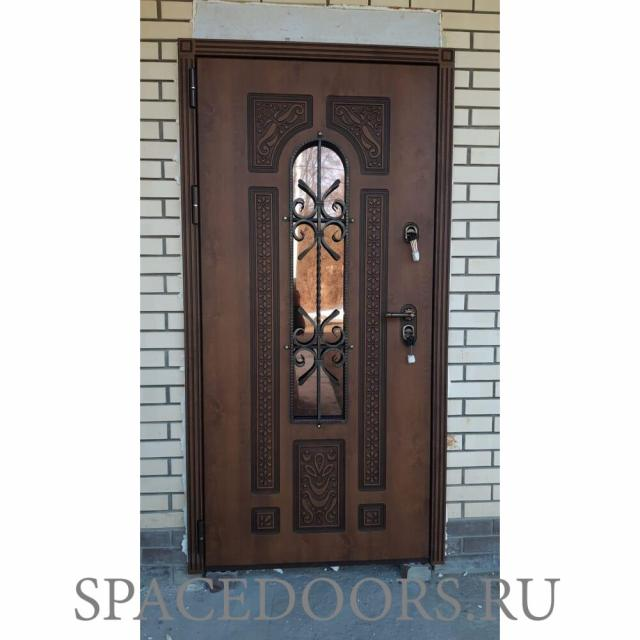close: (178, 37, 441, 562)
